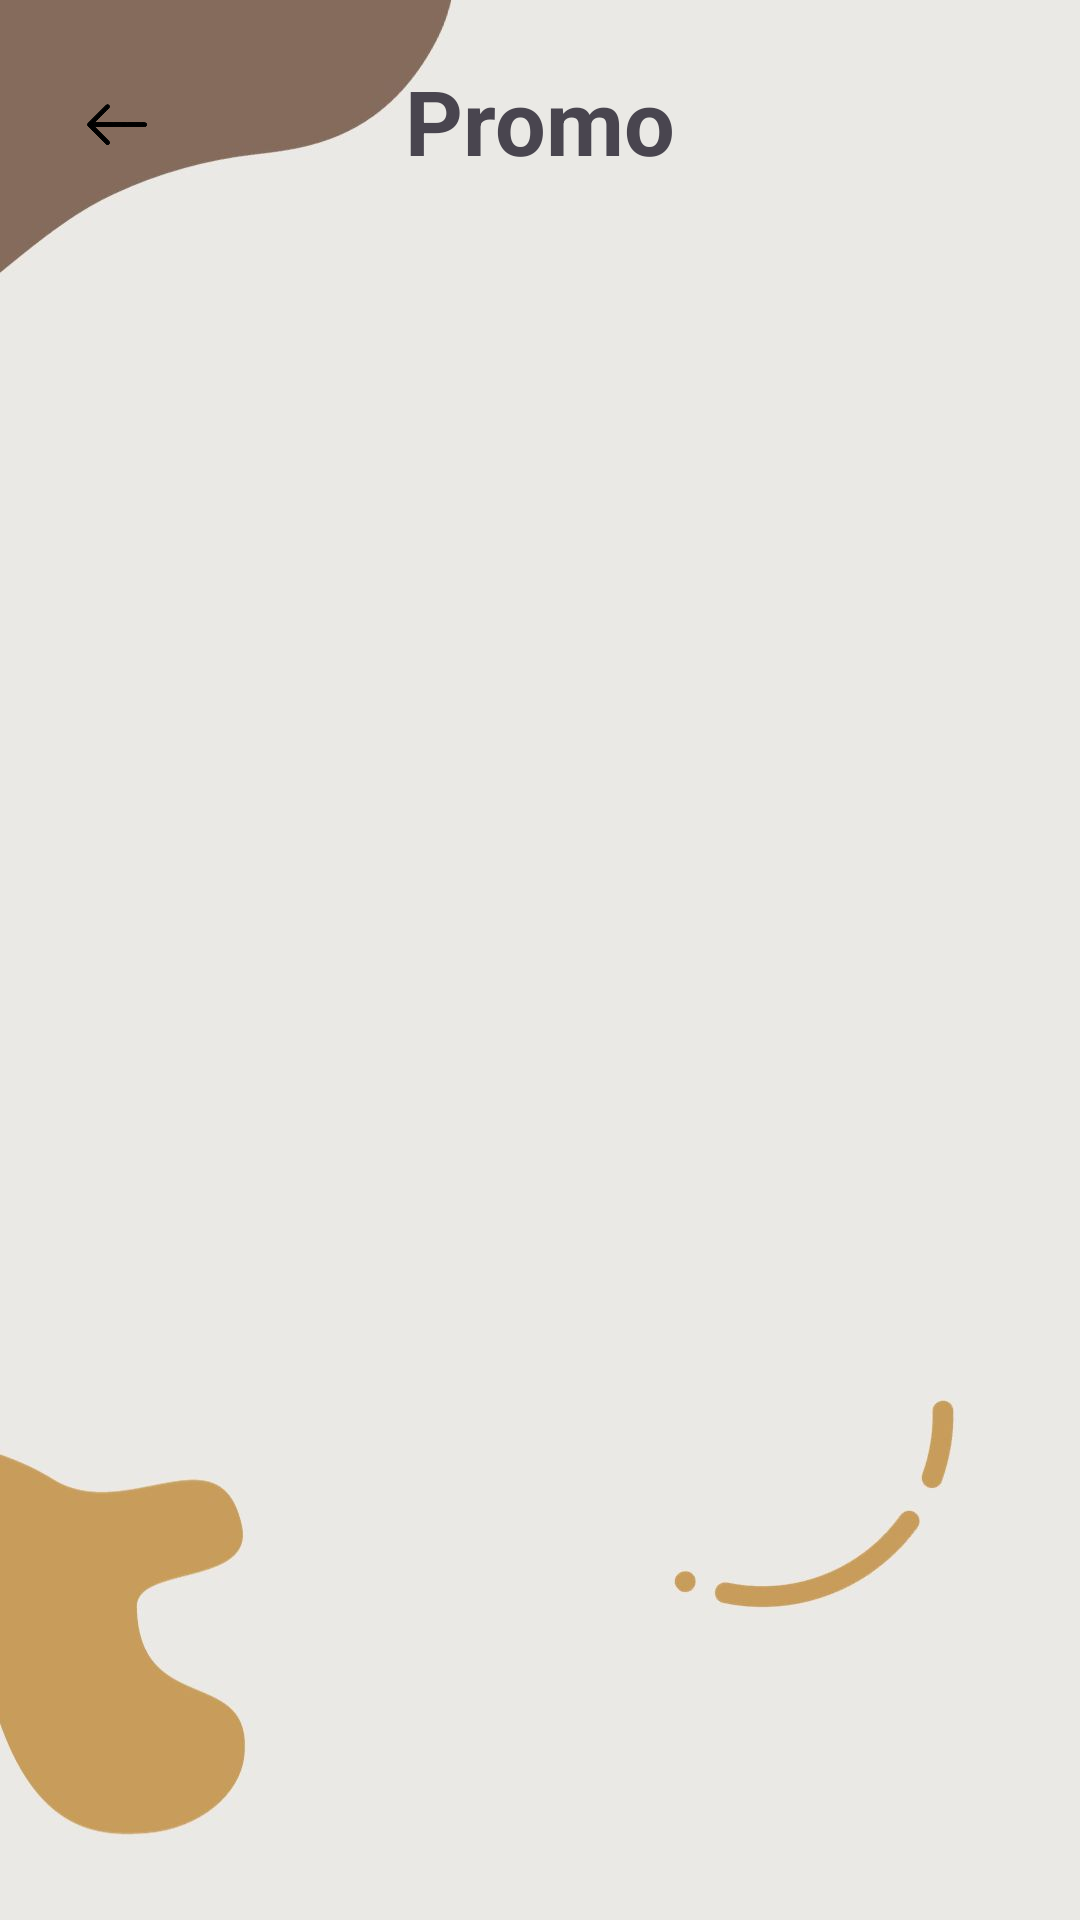

Icon click points for this 1080*1920 phone screenshot, format (x=x, y=y):
panah: (x=117, y=124)
